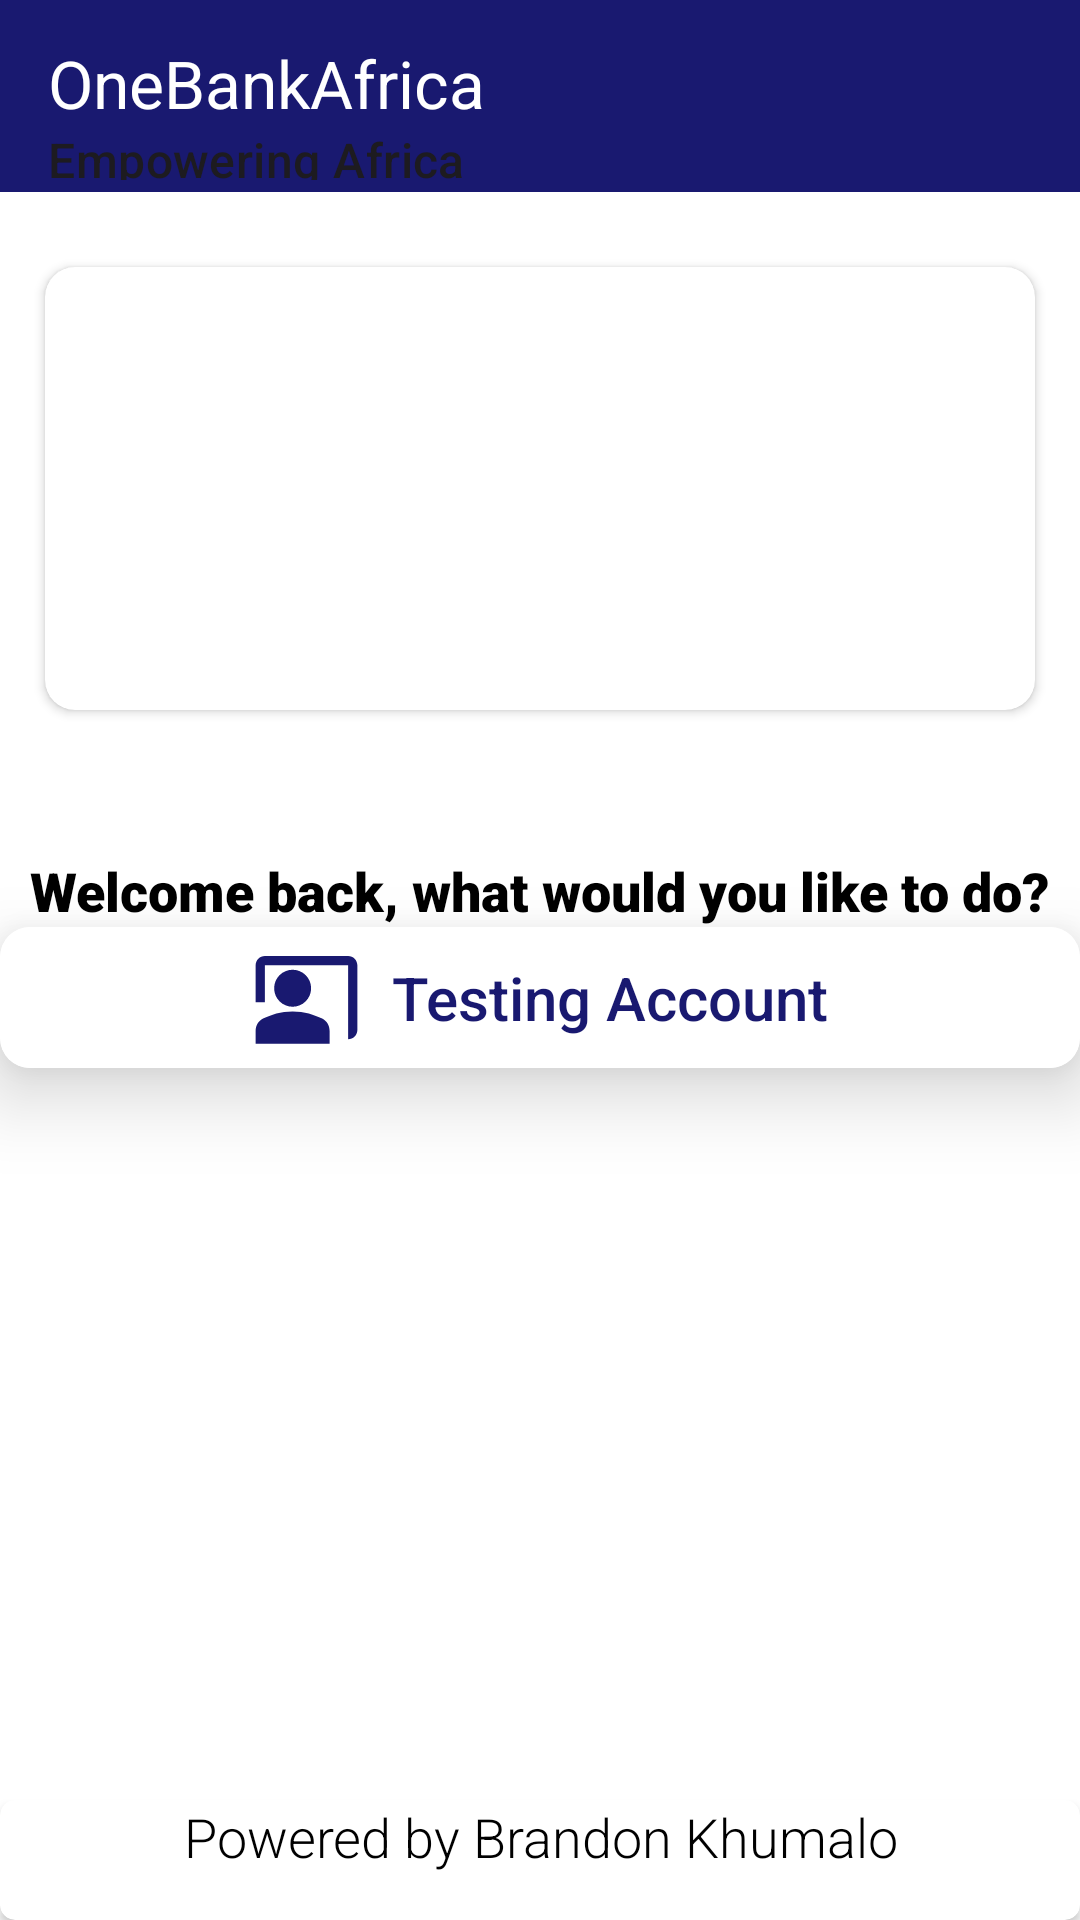

Locate icon controls on the screen. Image size 1080px x 1920px, boxes as (x1, y1, x2, y2).
user: (255, 956, 358, 1044)
